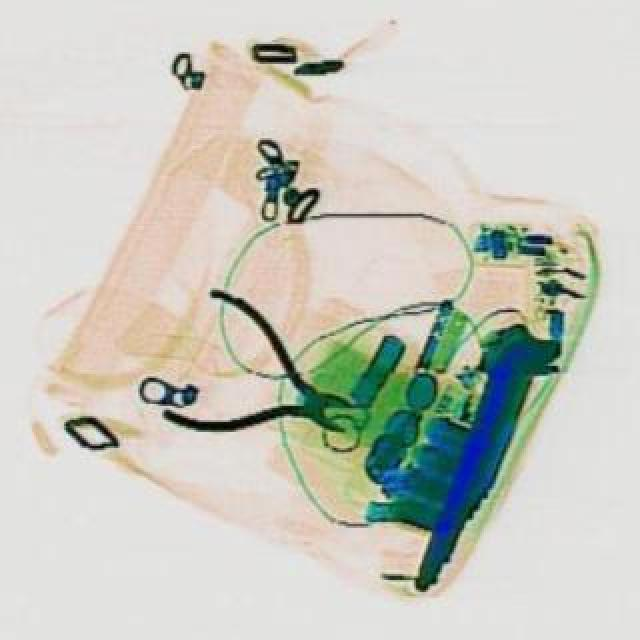wrench: (150, 290, 378, 484)
